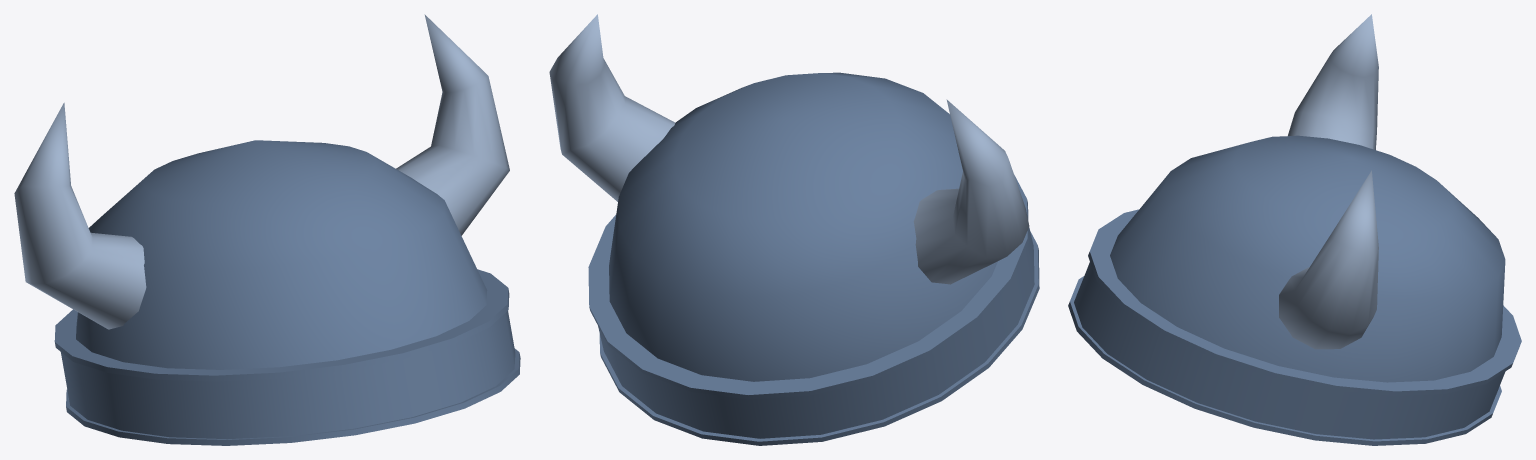
Rendered from Hat_Viking.fbx.
3 views of the same model, side by side, from view 1: azimuth 30°, elevation 25°; view 2: azimuth 150°, elevation 25°; view 3: azimuth 270°, elevation 25° (orthographic). The views are drawn at different scales.
Visible parts, largest first — view 1: Hat_Viking.001; view 2: Hat_Viking.001; view 3: Hat_Viking.001.
Part boxes in pixels (x1,y1,x2,y2): Hat_Viking.001: [14, 14, 520, 445]; Hat_Viking.001: [549, 14, 1039, 445]; Hat_Viking.001: [1068, 14, 1521, 445].
Size of the model in its own units: 39.1 by 27.11 by 36.72.
